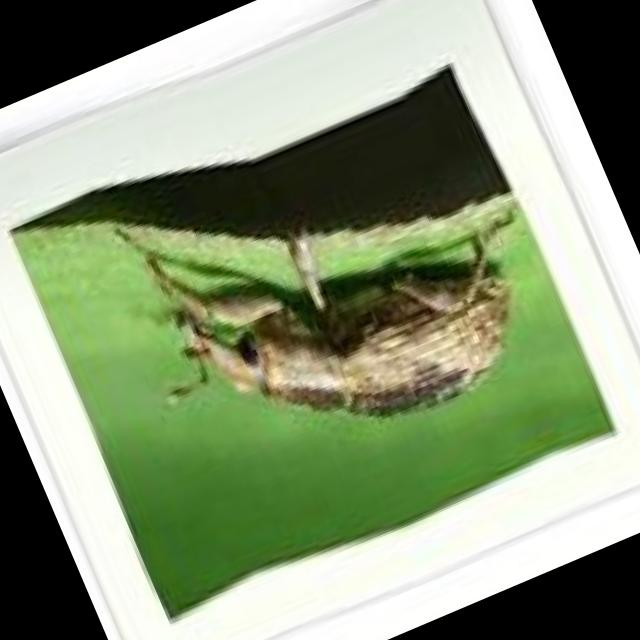rice-bug: (139, 138, 536, 496)
